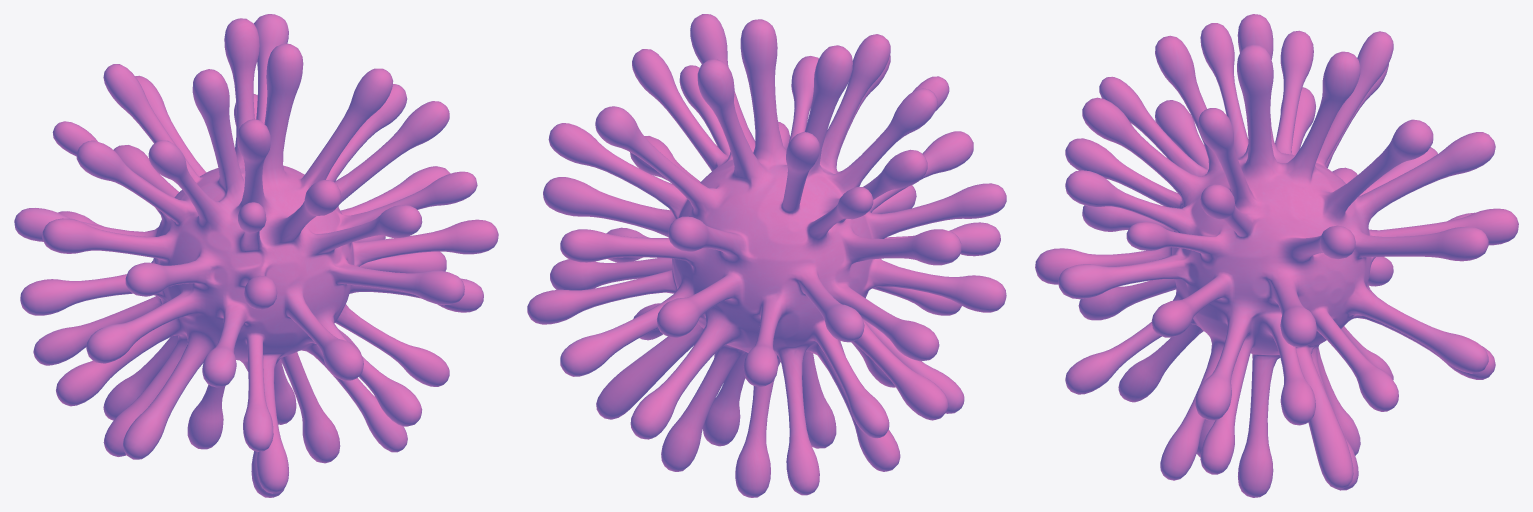
The model's file is corona_virus-B6D6TsA1.glb.
3 views of the same model, side by side, from view 1: azimuth 30°, elevation 25°; view 2: azimuth 150°, elevation 25°; view 3: azimuth 270°, elevation 25° (orthographic).
Parts seen in each view (by area): view 1: Corona VIrus; view 2: Corona VIrus; view 3: Corona VIrus.
Boxes of the visible parts, x1,y1,x2,y2 form: Corona VIrus: (14, 14, 498, 497); Corona VIrus: (527, 14, 1006, 497); Corona VIrus: (1035, 14, 1518, 497).
Bounding box in the file's own units: 1.31 × 1.31 × 1.33.
Materials: 1 (1 with a texture image).
